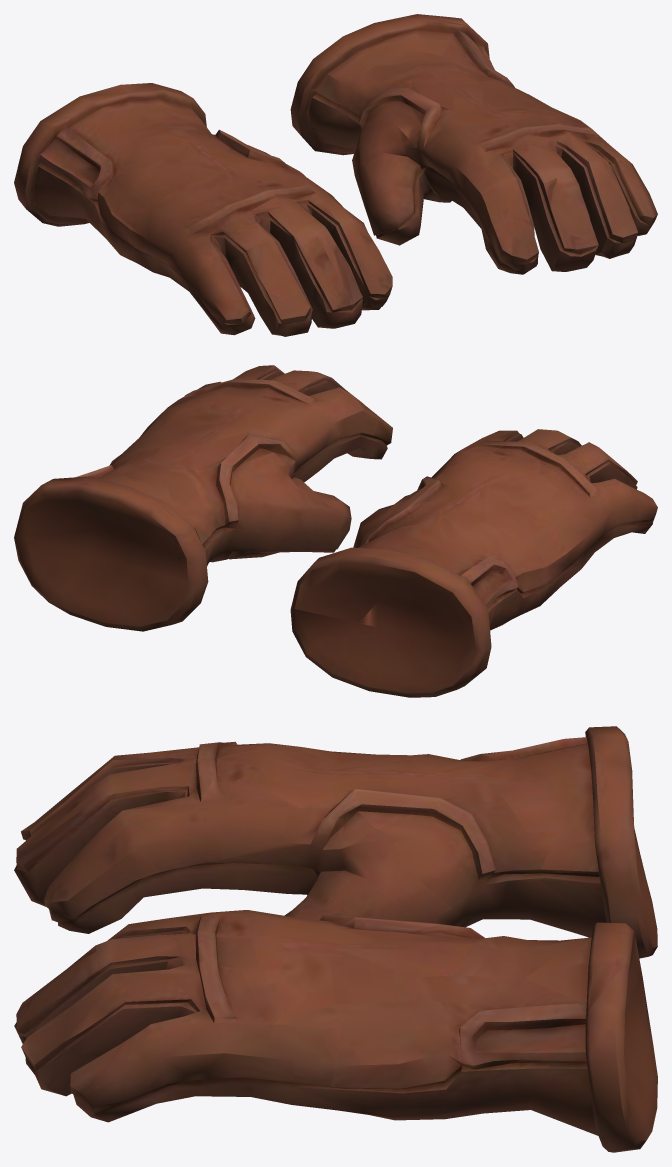
Rendered from cloth_gloves_rabochie_idle.glb.
3 renders of one model, top to bottom at view 1: azimuth 30°, elevation 25°; view 2: azimuth 150°, elevation 25°; view 3: azimuth 270°, elevation 25°, orthographic. The views are drawn at different scales.
Parts seen in each view (by area): view 1: tripo_node_b230526a-ccae-4719-abd0-a648bd5b1cb9; view 2: tripo_node_b230526a-ccae-4719-abd0-a648bd5b1cb9; view 3: tripo_node_b230526a-ccae-4719-abd0-a648bd5b1cb9.
Boxes of the visible parts, x1,y1,x2,y2 form: tripo_node_b230526a-ccae-4719-abd0-a648bd5b1cb9: [14, 14, 657, 336]; tripo_node_b230526a-ccae-4719-abd0-a648bd5b1cb9: [14, 365, 657, 697]; tripo_node_b230526a-ccae-4719-abd0-a648bd5b1cb9: [14, 726, 657, 1152].
Bounding box in the file's own units: 0.5587 × 0.1497 × 0.4755.
1 material, 1 textured.
